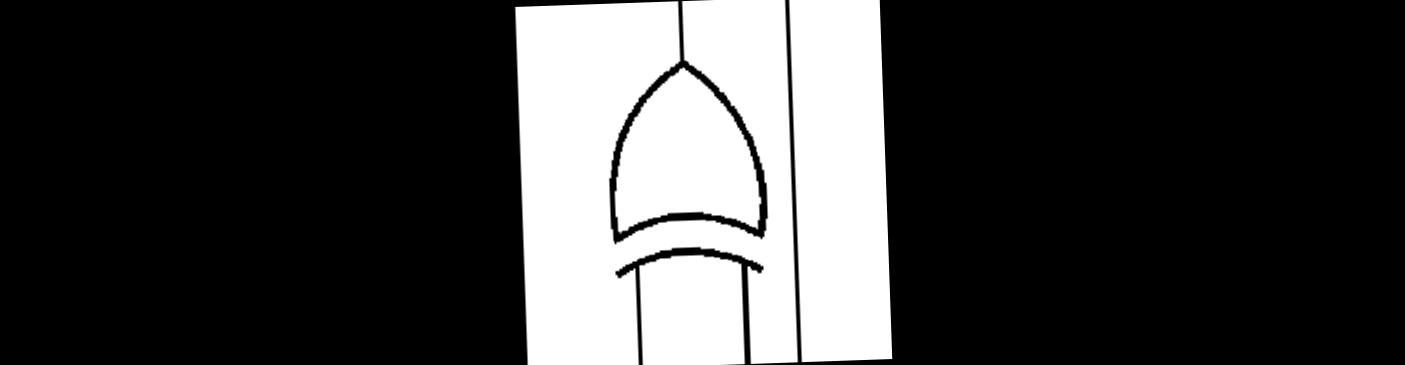xor: (578, 22, 780, 319)
